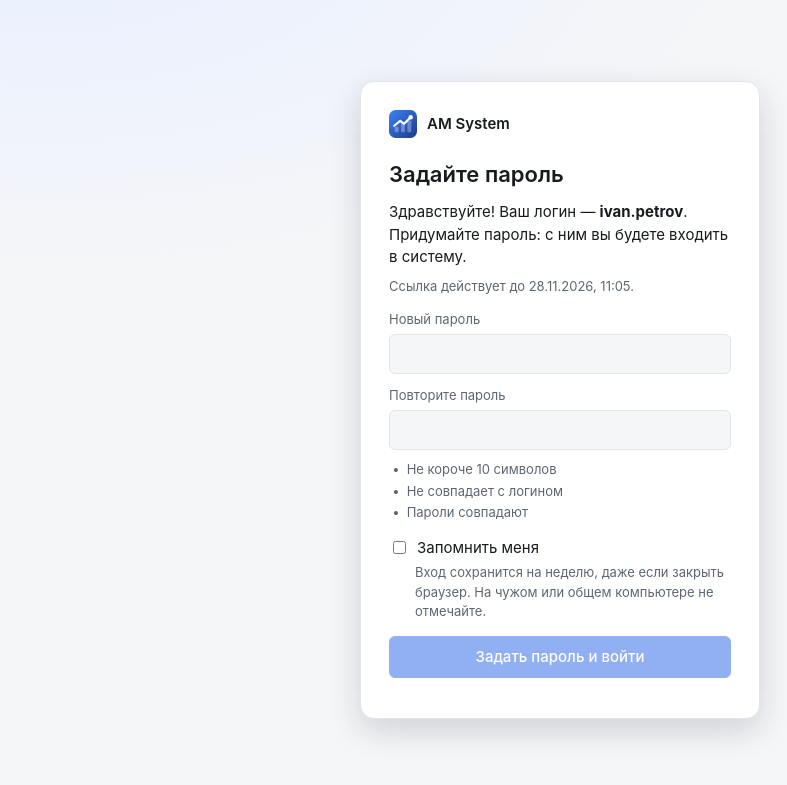
Test: InvitePage › greets without a name and explains a refusal
Check: the text "Здравствуйте!" is shown, box [389,201,731,268]
Type "ivan-secret-1" into the password field labelled "Новый пароль" at point(560, 354), box [389,334,731,374]
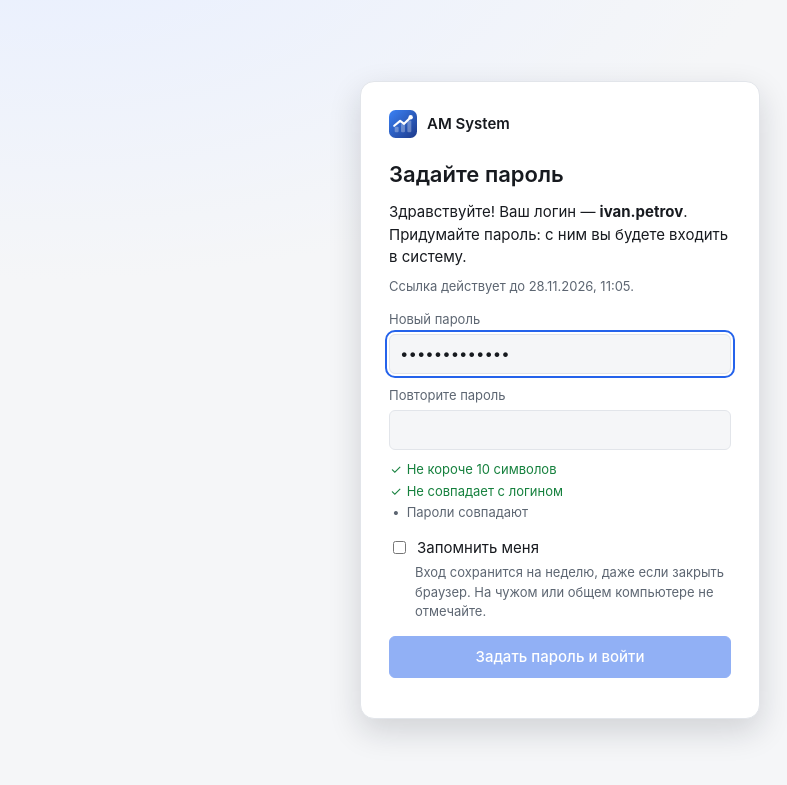
Type "ivan-secret-1" into the password field labelled "Повторите пароль" at point(560, 430), box [389,410,731,450]
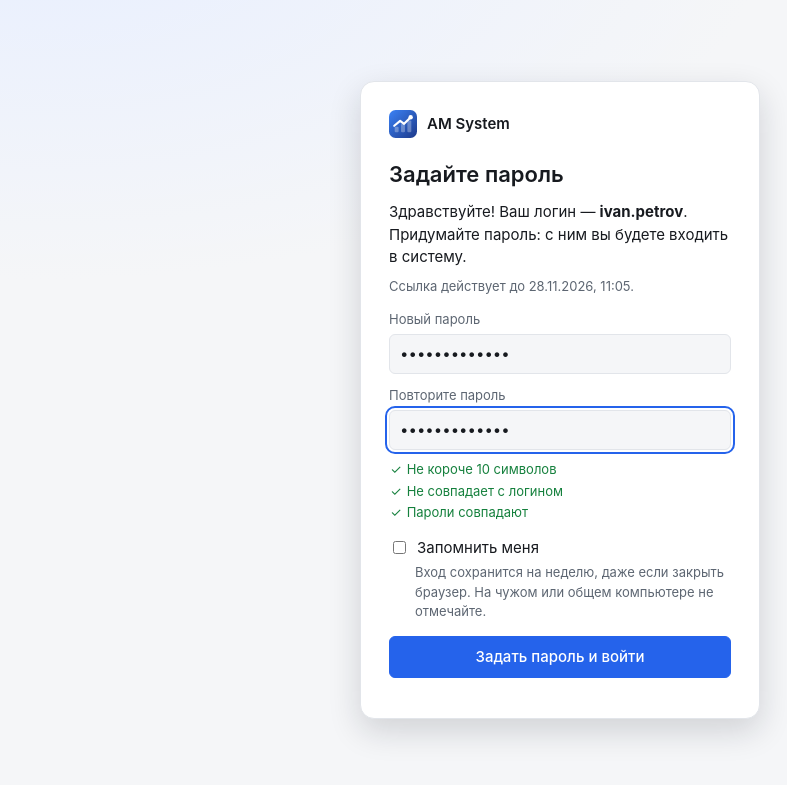
Click the button "Задать пароль и войти" at point(560, 657), box [389,636,731,678]
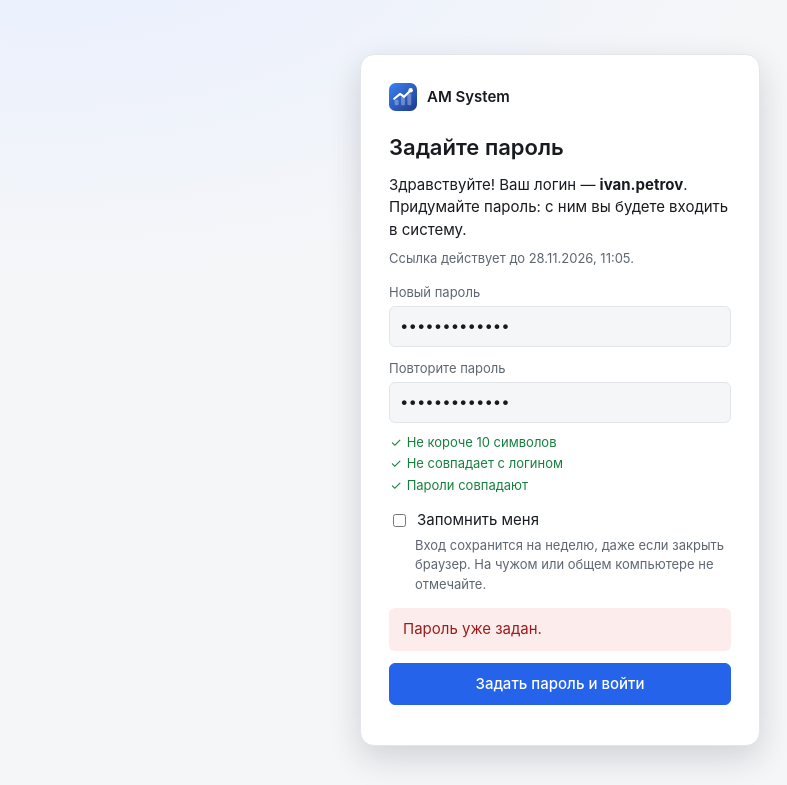
Check: the message reads "Пароль уже задан.", box [403,619,542,638]
